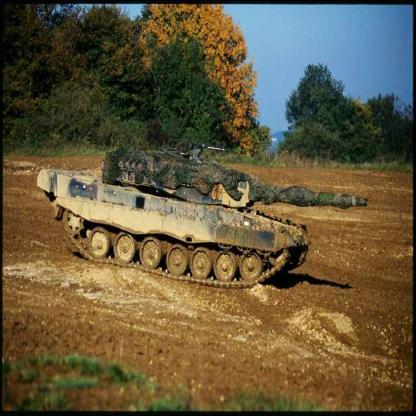Tank: (35, 129, 371, 313)
